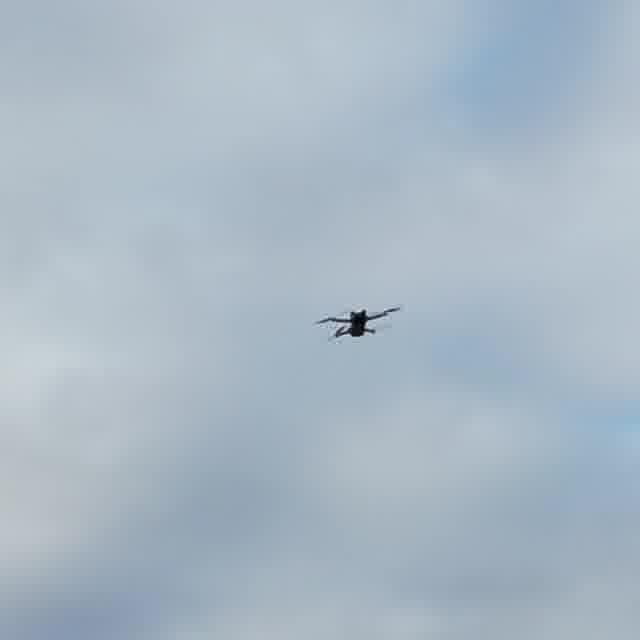Drohne: (316, 307, 399, 338)
